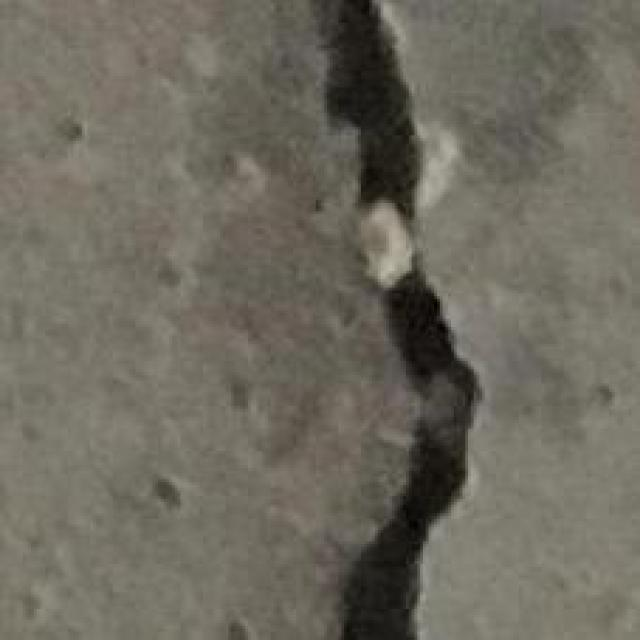Crack: (316, 0, 482, 637)
